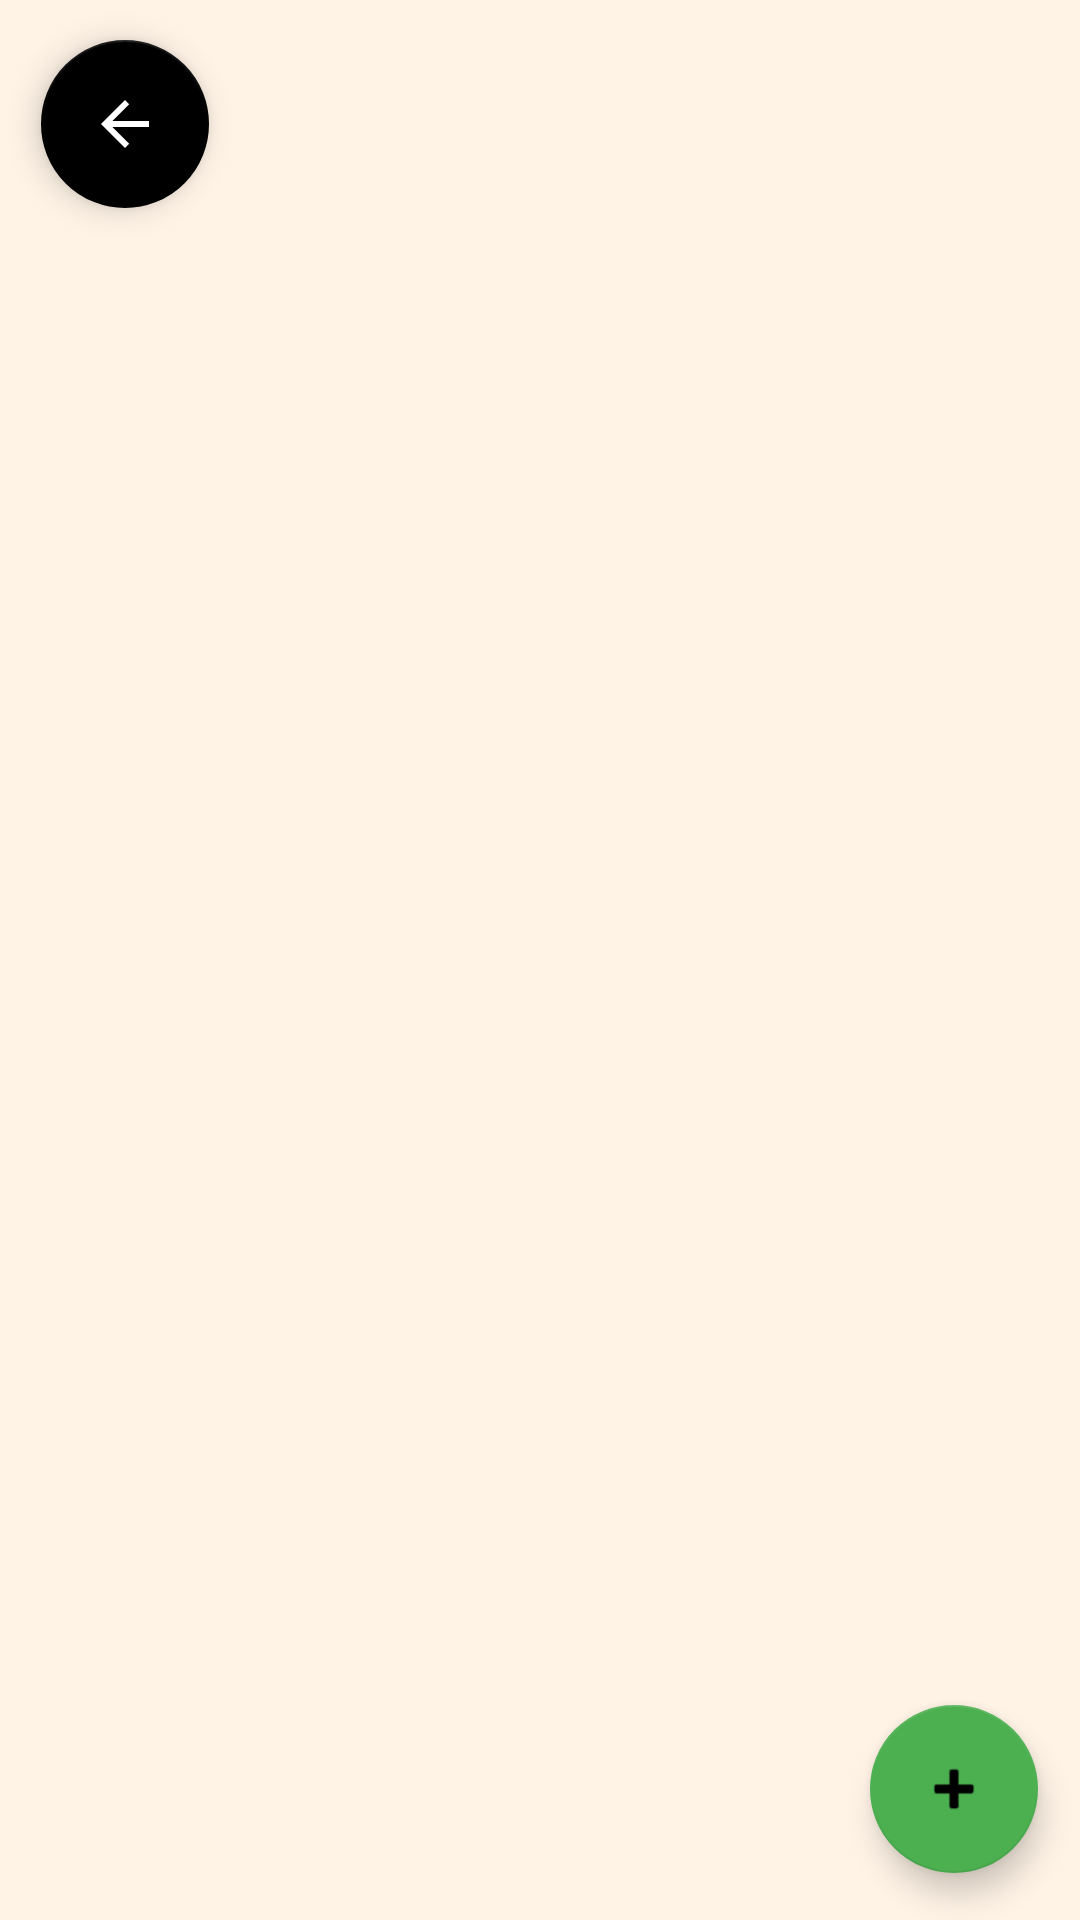

Point at icon controls on the screen. Image size 1080x1920, points as point (x, y).
add: point (954, 1789)
